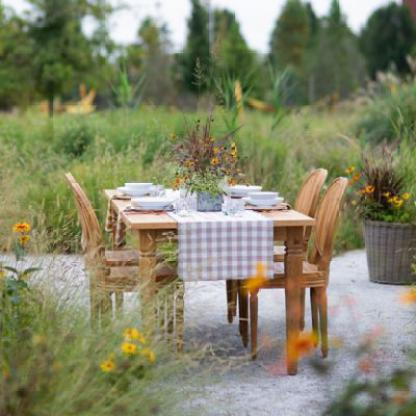table: (100, 182, 320, 379)
